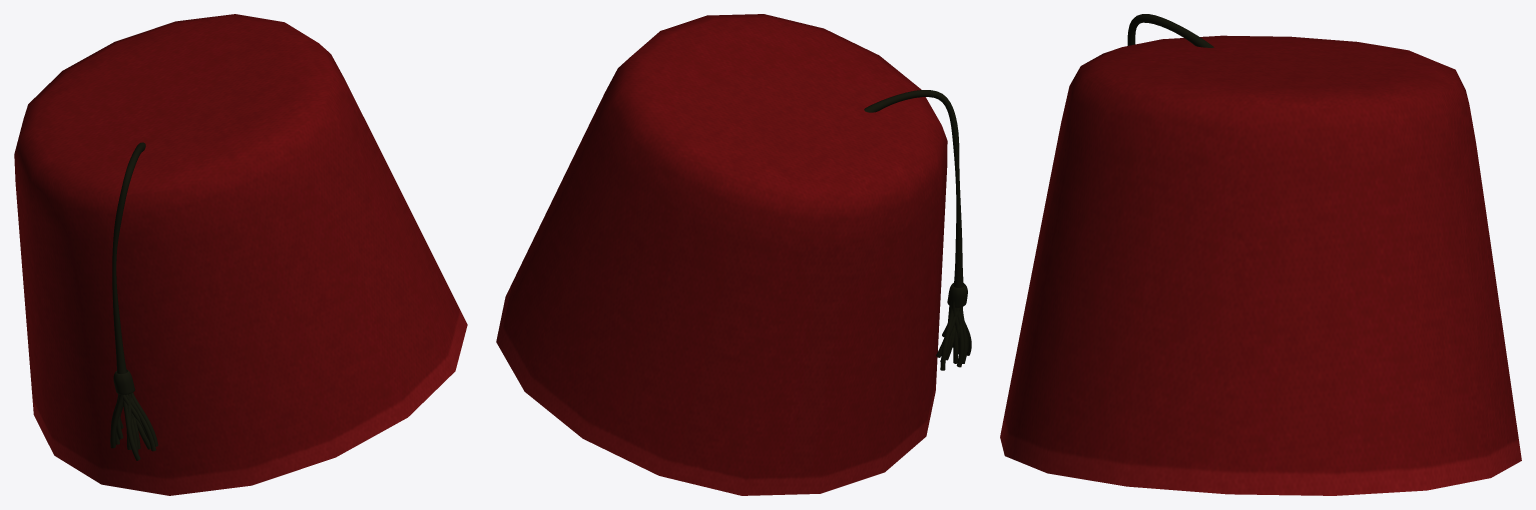
Rendered from Fez.glb.
The picture shows the model from 3 angles, left to right: view 1: azimuth 30°, elevation 25°; view 2: azimuth 150°, elevation 25°; view 3: azimuth 270°, elevation 25°; orthographic projection. The views are drawn at different scales.
Visible parts, largest first — view 1: Fez; view 2: Fez; view 3: Fez.
Part boxes in pixels (x1,y1,x2,y2): Fez: (14,14,467,495); Fez: (496,14,971,495); Fez: (1000,14,1521,495).
Size of the model in its own units: 0.3621 by 0.3283 by 0.3517.
2 materials, 2 textured.
